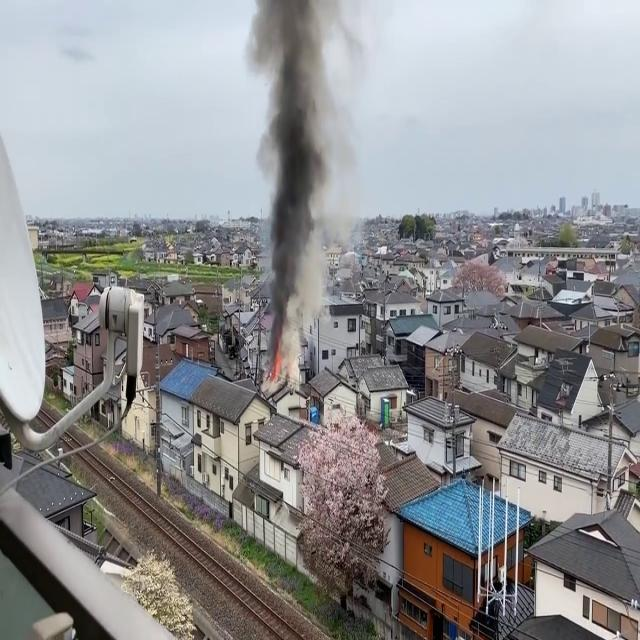Smoke: (251, 1, 343, 355)
